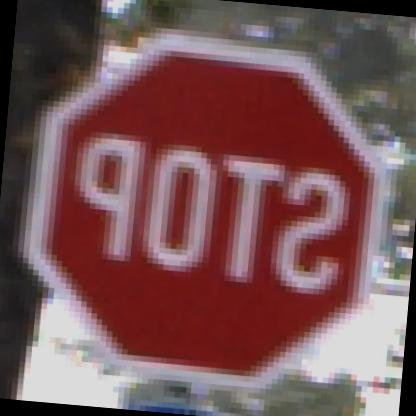stop: (0, 12, 406, 395)
